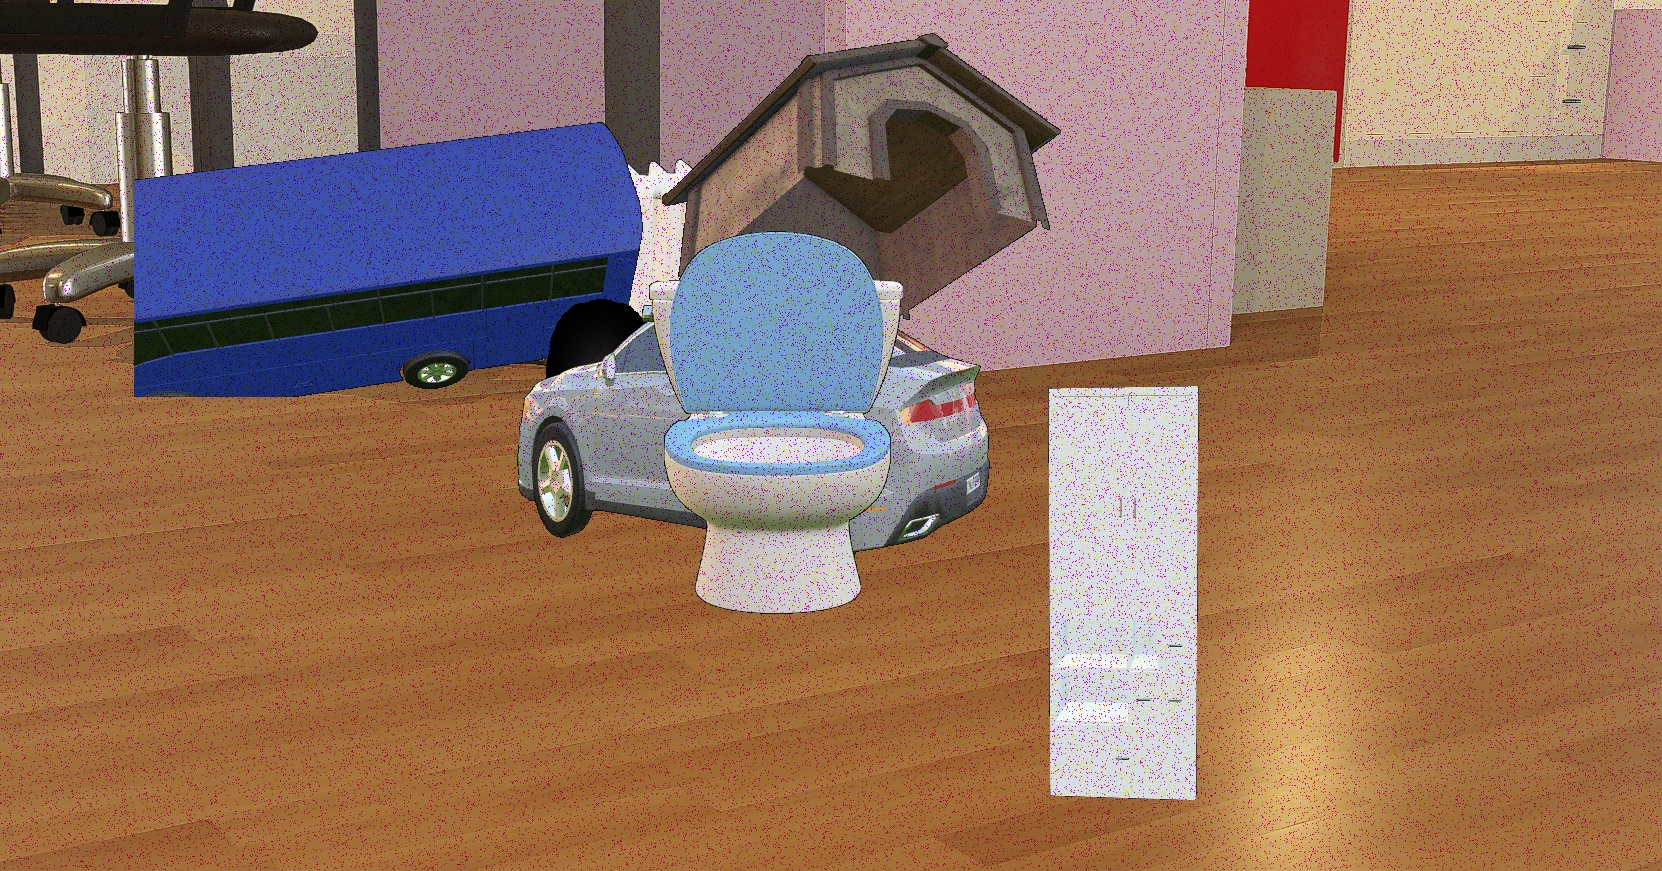armario: (1048, 385, 1199, 801)
bus: (134, 122, 643, 397)
casa: (661, 33, 1062, 324)
retrete: (641, 231, 904, 614)
